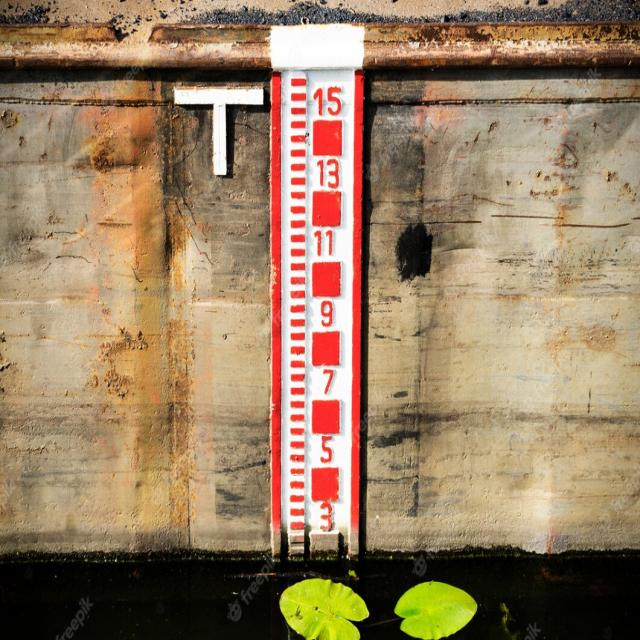ruler: (259, 48, 369, 557)
value: (307, 220, 341, 264), (310, 81, 344, 121), (310, 361, 341, 400), (310, 494, 340, 534), (314, 292, 342, 333), (313, 153, 341, 192), (313, 432, 339, 470)
